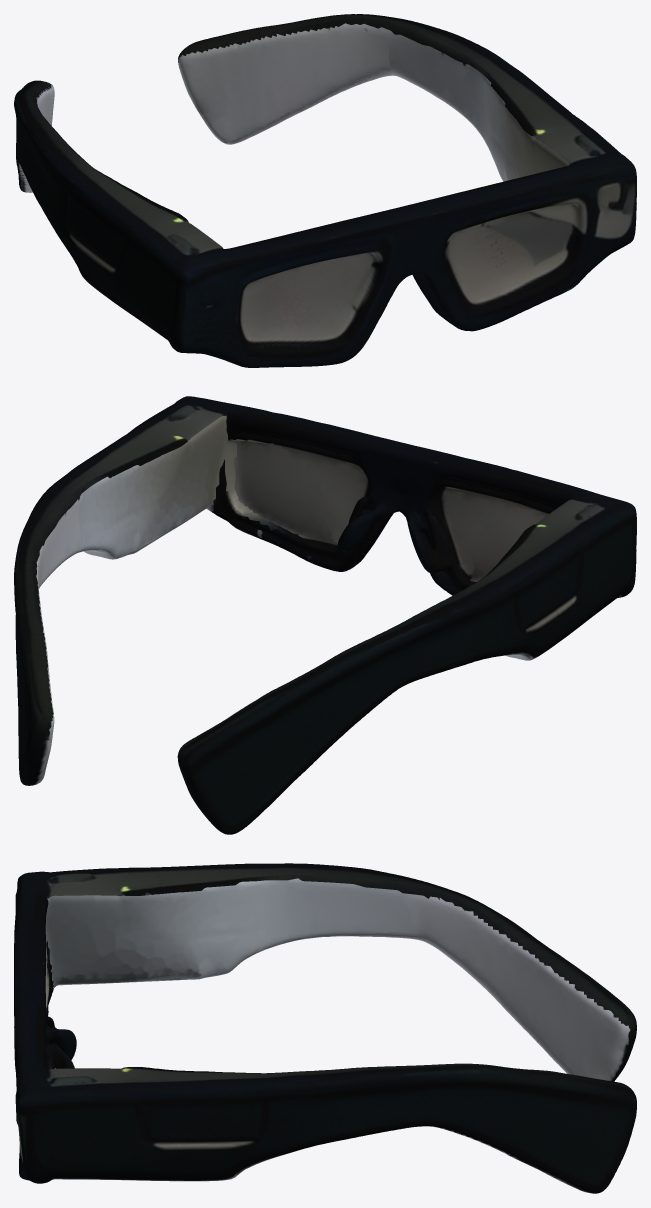
3 renders of one model, top to bottom at view 1: azimuth 30°, elevation 25°; view 2: azimuth 150°, elevation 25°; view 3: azimuth 270°, elevation 25°, orthographic. The views are drawn at different scales.
Parts seen in each view (by area): view 1: tmpjdrlxam0.ply; view 2: tmpjdrlxam0.ply; view 3: tmpjdrlxam0.ply.
Boxes of the visible parts, box(x1,y1,x2,y2) form: tmpjdrlxam0.ply: box(14, 14, 636, 367); tmpjdrlxam0.ply: box(14, 396, 636, 834); tmpjdrlxam0.ply: box(14, 863, 636, 1193).
Size of the model in its own units: 1.75 by 0.601 by 1.99.
1 material, 1 textured.
